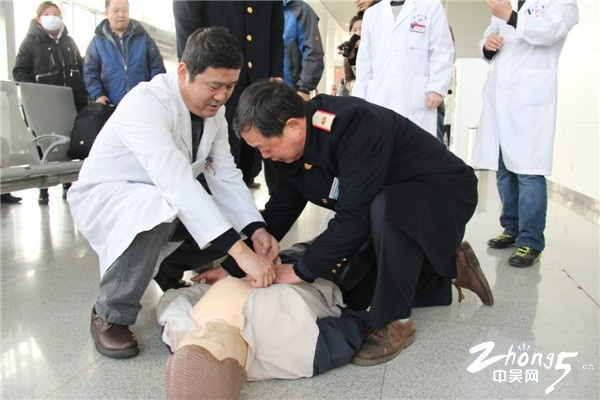falling: (149, 215, 390, 400)
